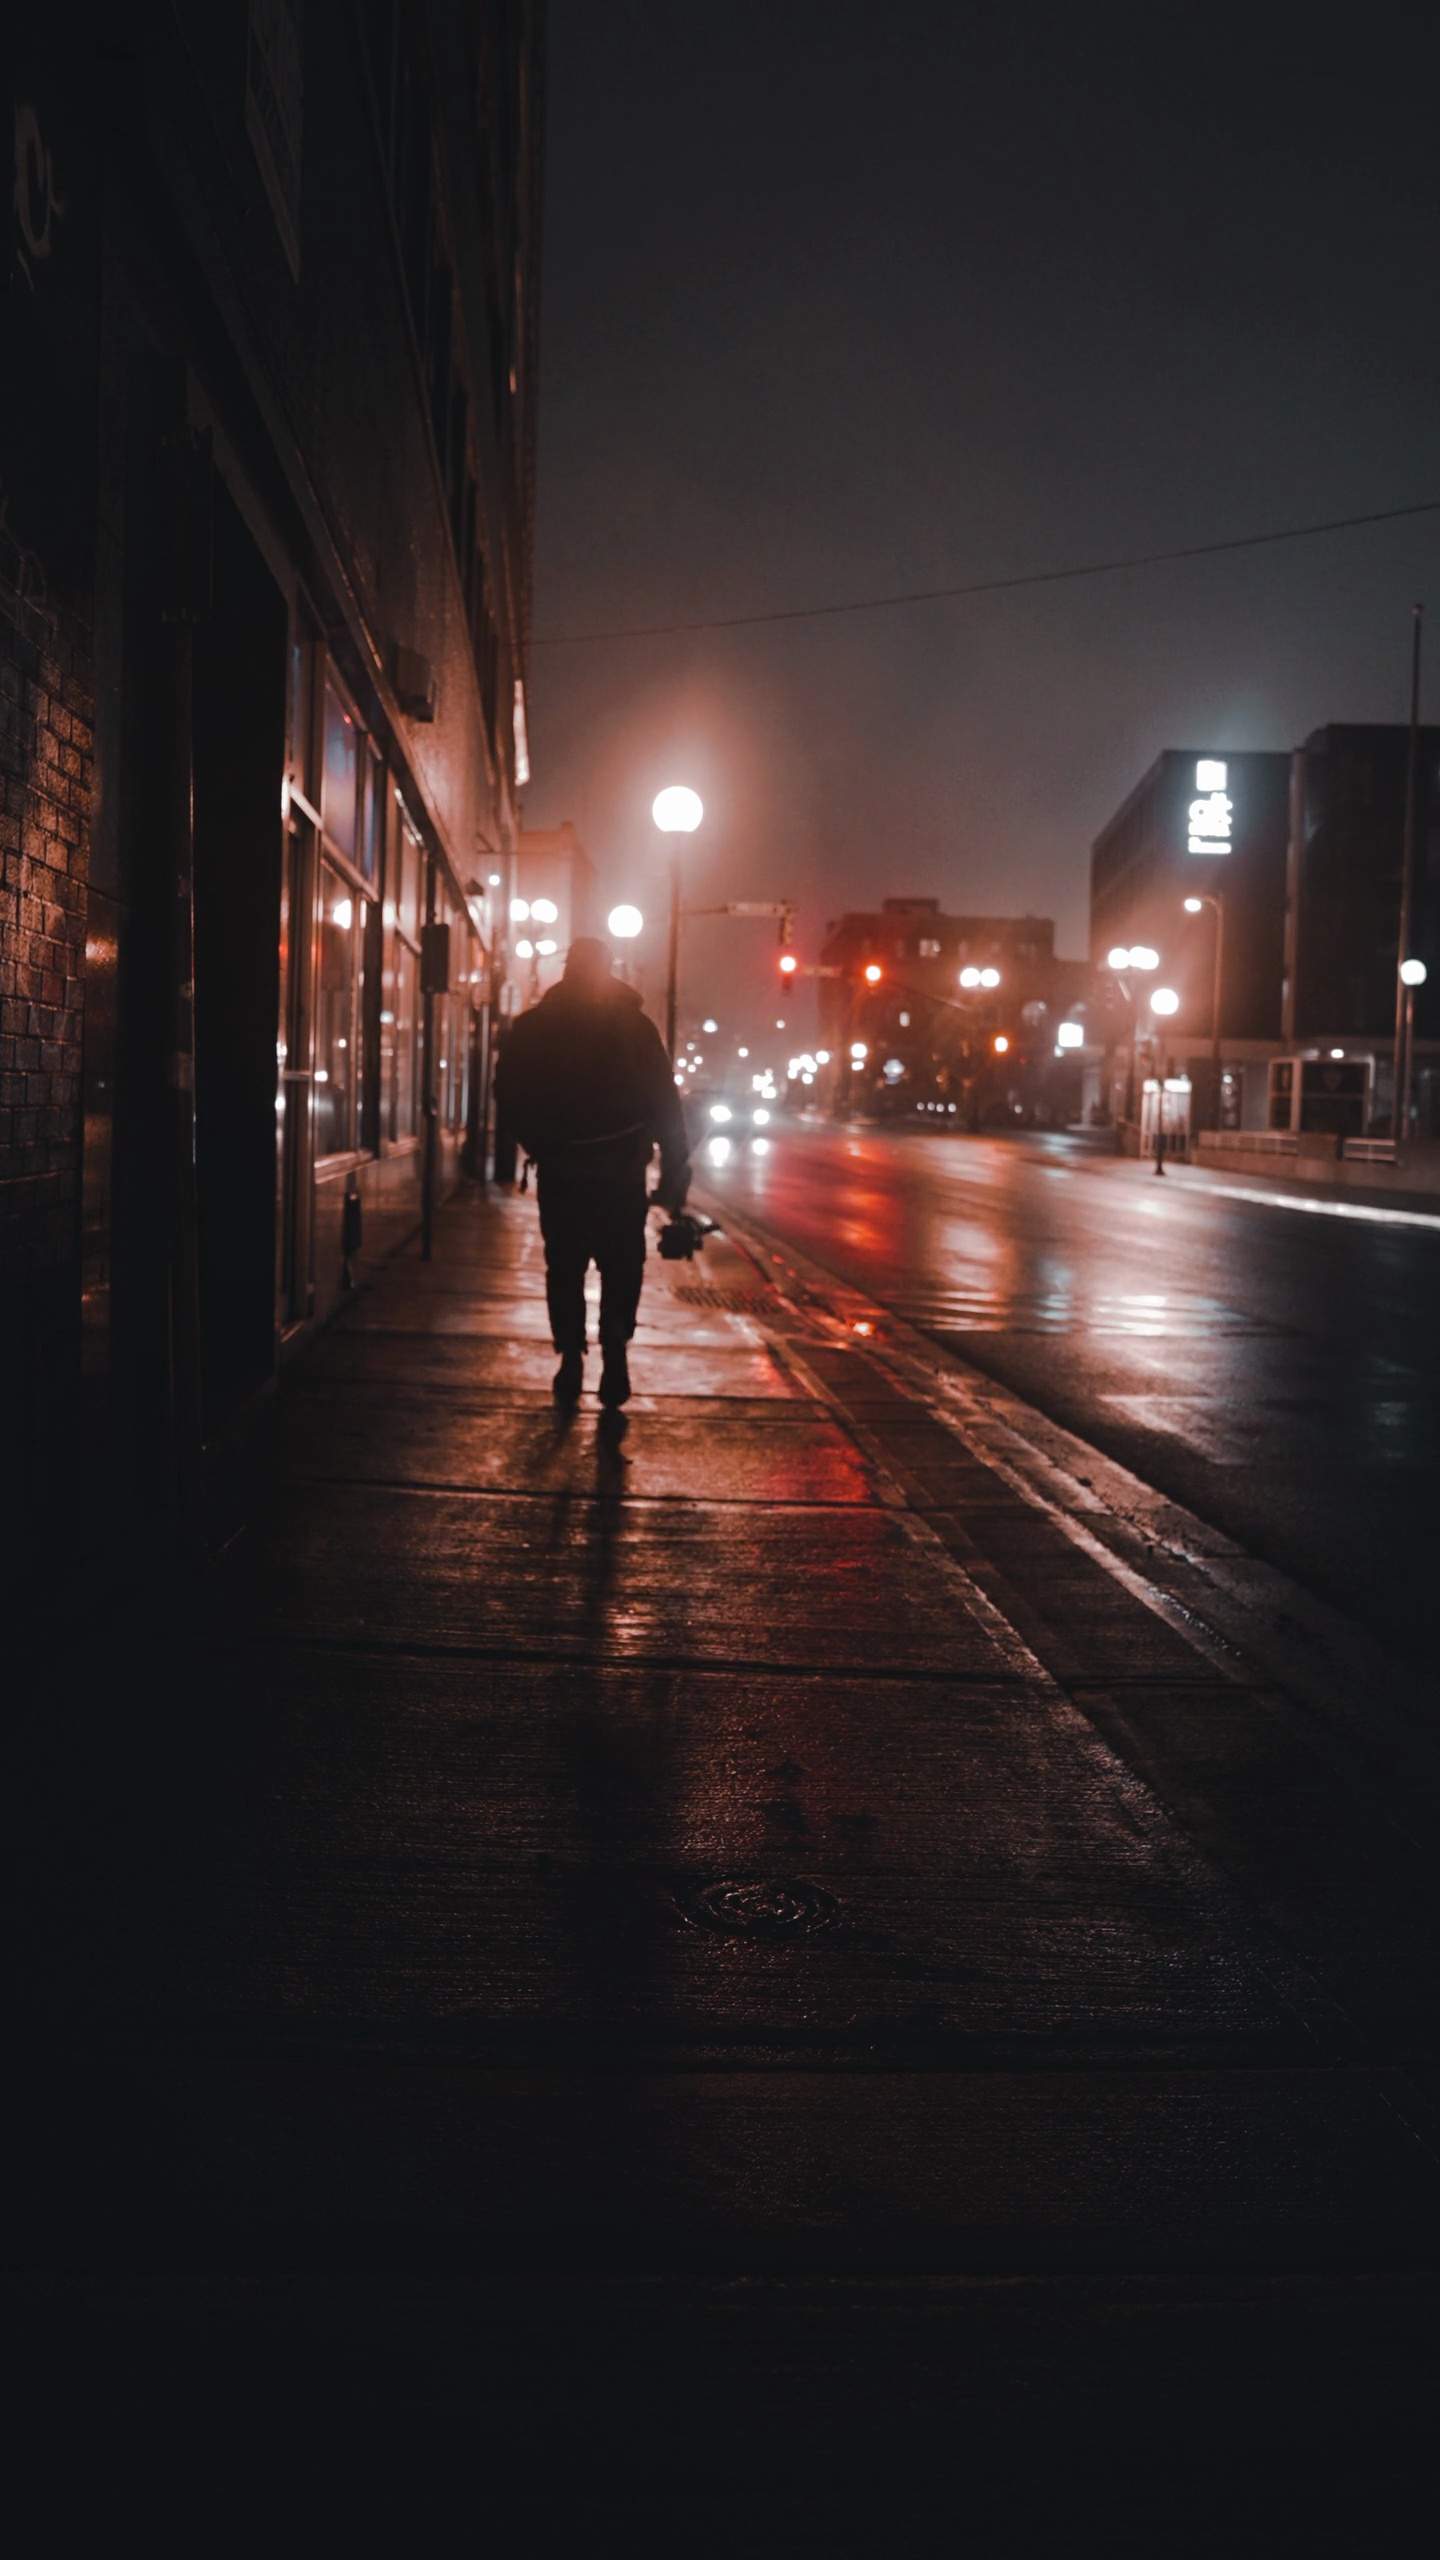person: (477, 946, 698, 1393)
